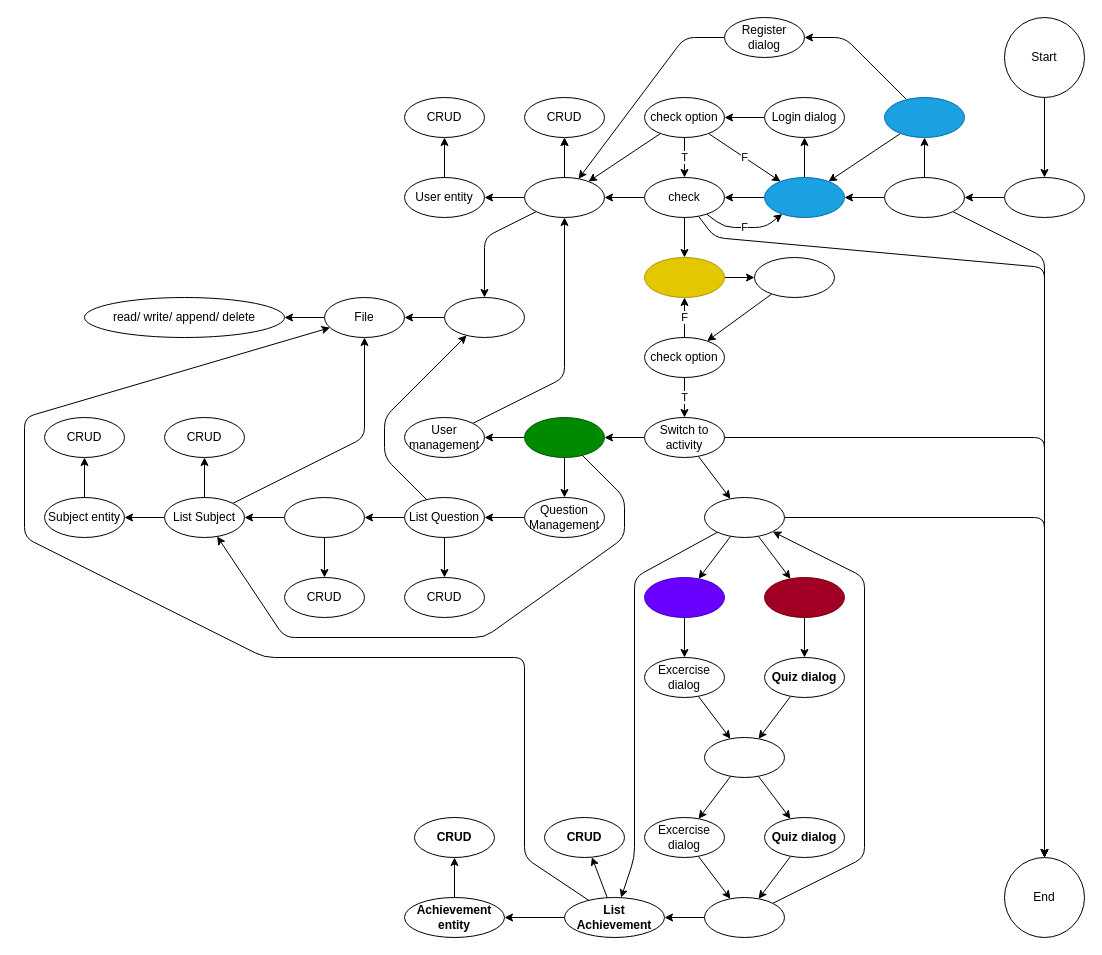
This 1102x955 diagram has some shape labels left out. The box of each missing label's shape, as (x1, y1, x2, y2) in pixels:
Dashboard: (644, 256, 724, 298)
Dashboard menu: (754, 256, 834, 298)
Excercise: (644, 576, 724, 618)
File activity: (444, 296, 524, 338)
List user: (524, 176, 604, 218)
Listing Question: (704, 736, 784, 778)
Login: (764, 176, 844, 218)
Management: (524, 416, 604, 458)
Question entity: (284, 496, 364, 538)
Quiz: (764, 576, 844, 618)
Register: (884, 96, 964, 138)
Result: (704, 896, 784, 938)
Study dashboard: (704, 496, 784, 538)
Switch option: (884, 176, 964, 218)
Welcome screen: (1004, 176, 1084, 218)
